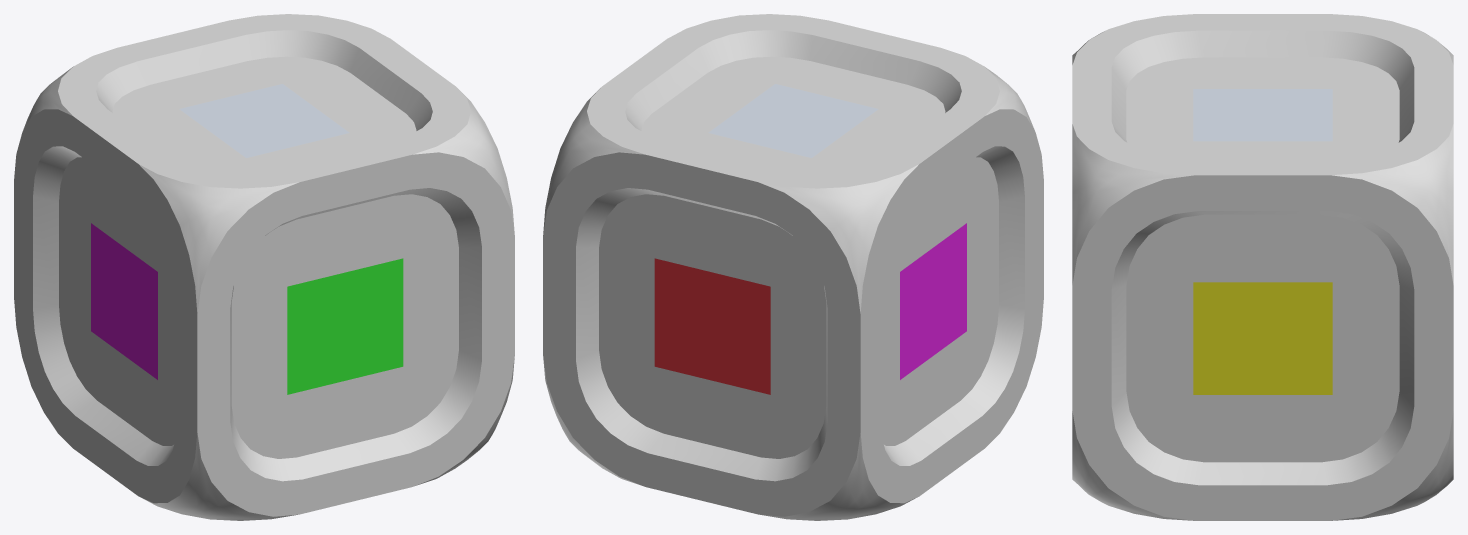
3 renders of one model, left to right at view 1: azimuth 30°, elevation 25°; view 2: azimuth 150°, elevation 25°; view 3: azimuth 270°, elevation 25°, orthographic. The views are drawn at different scales.
Visible parts, largest first — view 1: Dice_01.007; view 2: Dice_01.007; view 3: Dice_01.007.
Part boxes in pixels (left/top/right/bottom): Dice_01.007: left=14, top=14, right=514, bottom=520; Dice_01.007: left=543, top=14, right=1043, bottom=520; Dice_01.007: left=1072, top=14, right=1453, bottom=520.
Bounding box in the file's own units: 235 × 235 × 235.
